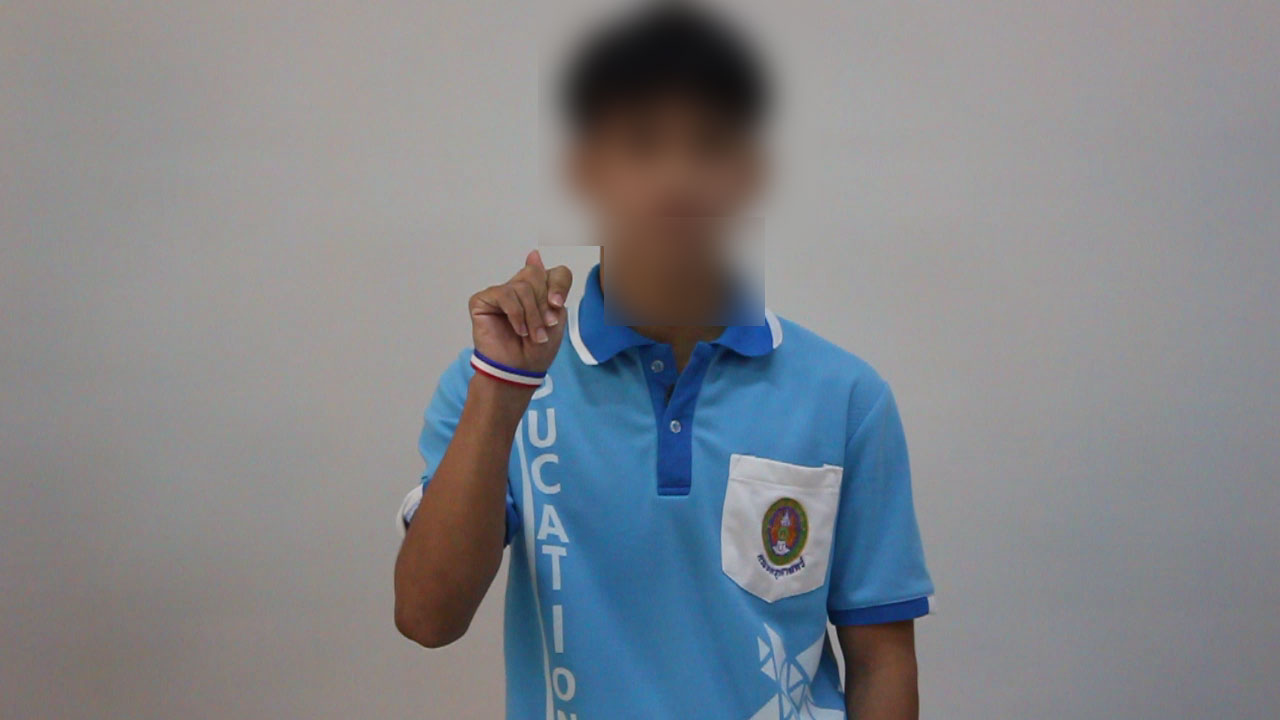tor: (454, 233, 599, 415)
